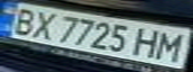2: (90, 19, 115, 52)
5: (109, 21, 136, 55)
7: (51, 12, 81, 45), (72, 16, 96, 48)
B: (3, 6, 42, 36)
H: (130, 26, 166, 59)
M: (151, 29, 190, 62)
X: (24, 8, 60, 41)
